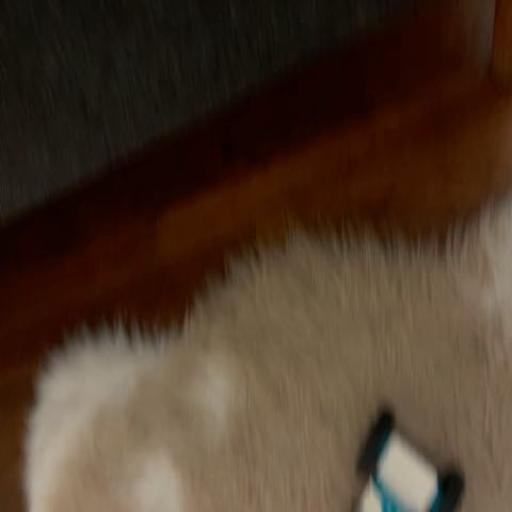Opponent: (340, 394, 463, 512)
